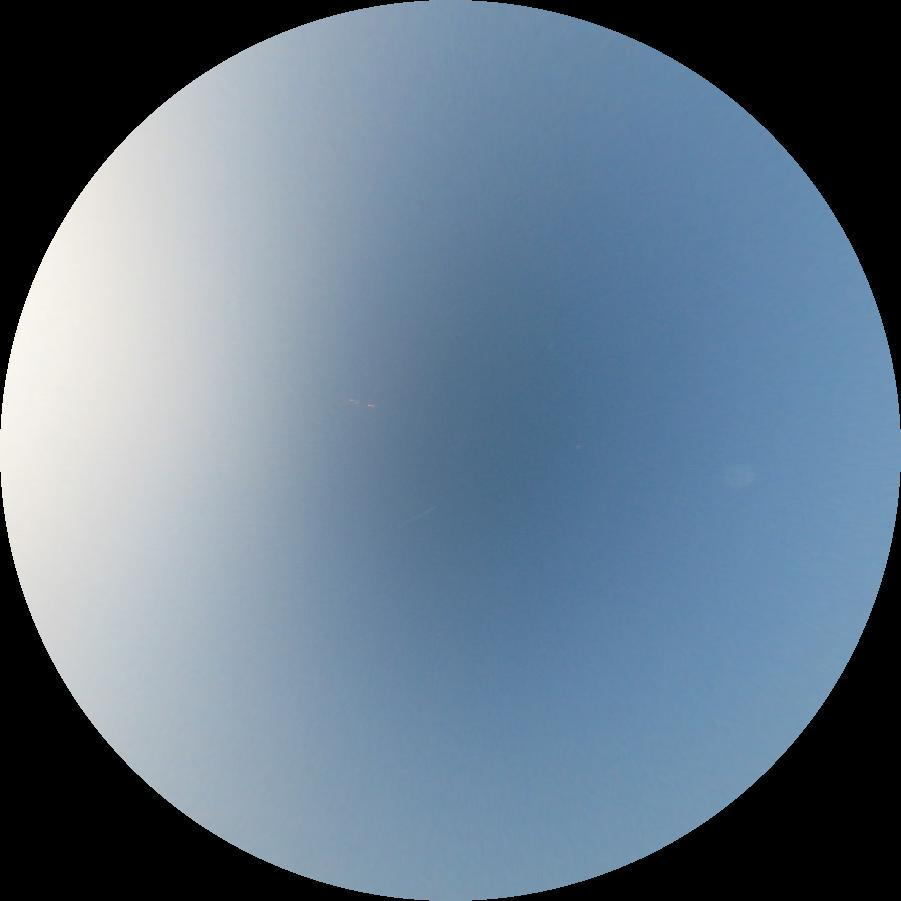contrail young: (391, 503, 436, 531)
